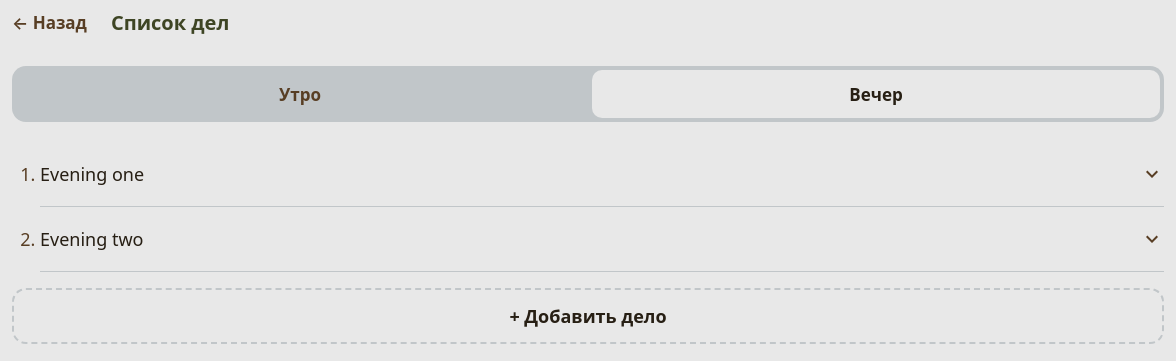
Test case: Editor view › switches between morning and evening
What coordinates should you click on to do the following:
click the tab "Утро"
I would click on:
 (300, 94)
Its box is [16, 70, 584, 118].
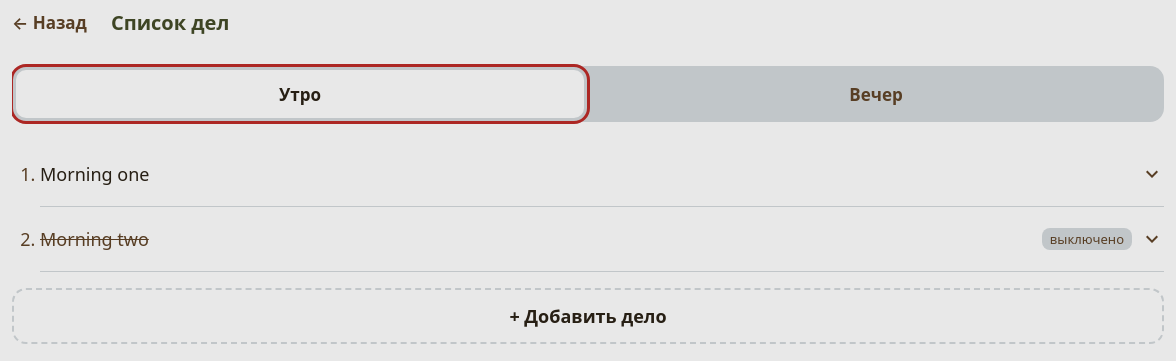
Result: the text "Morning one" is shown at [40, 162, 150, 186]
Result: the button "Evening one" is gone
